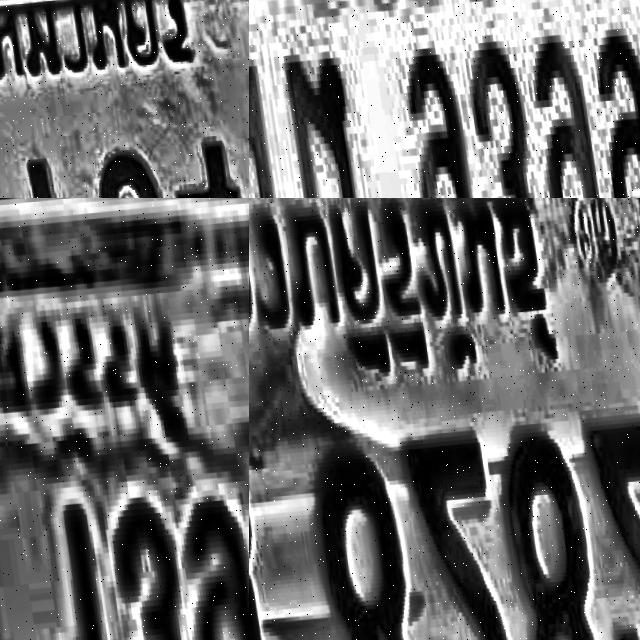license-plate: (249, 198, 640, 640), (0, 198, 249, 640), (249, 0, 640, 198), (0, 0, 249, 198)
